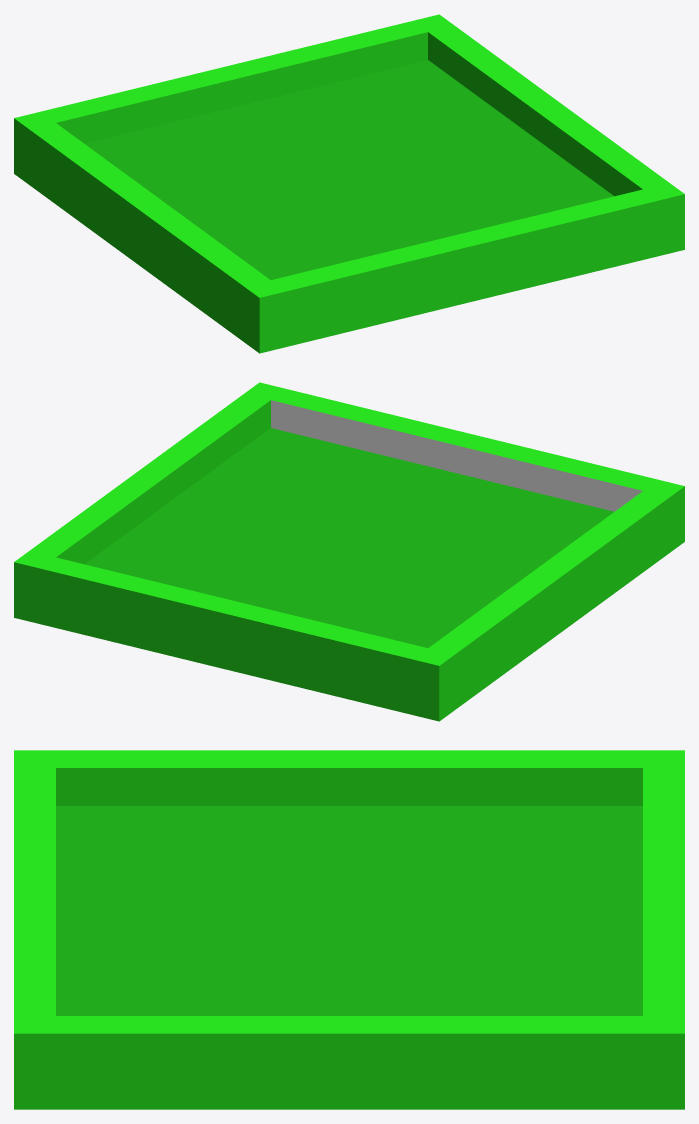
Rendered from DropSpot2.dae.
3 renders of one model, top to bottom at view 1: azimuth 30°, elevation 25°; view 2: azimuth 150°, elevation 25°; view 3: azimuth 270°, elevation 25°, orthographic. The views are drawn at different scales.
Parts seen in each view (by area): view 1: SketchUp (×4); view 2: SketchUp (×5); view 3: SketchUp (×4).
Boxes of the visible parts, x1,y1,x2,y2 form: SketchUp (×4): [14, 14, 684, 353]; SketchUp (×5): [14, 382, 684, 721]; SketchUp (×4): [14, 750, 684, 1109].
Size of the model in its own units: 1 by 1 by 0.125.
